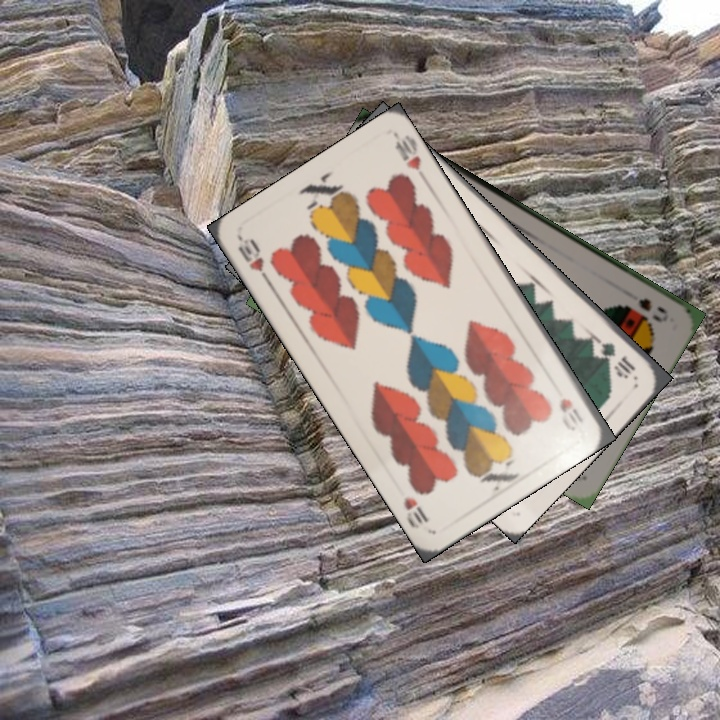G10: (588, 334, 638, 381)
H10: (233, 234, 273, 287), (555, 393, 586, 426)
SO: (635, 294, 671, 326)
